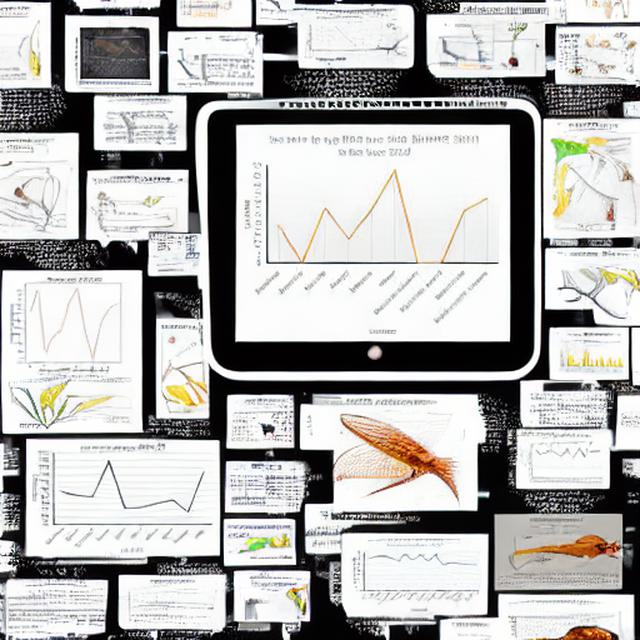Graph: (237, 127, 503, 336), (30, 443, 215, 553), (3, 271, 140, 374), (349, 535, 480, 613), (523, 439, 606, 487), (303, 13, 377, 57), (83, 33, 150, 79), (559, 338, 626, 378)
